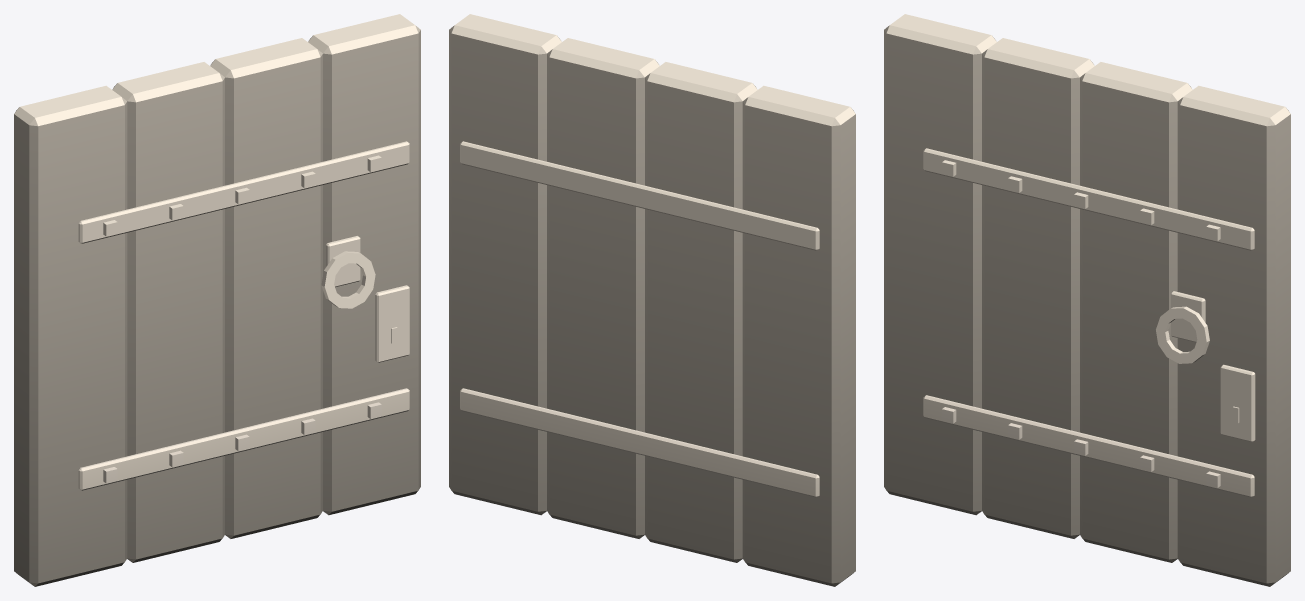
Rendered from SM_VKI_Leaf_Iron_Cut.fbx.
3 views of the same model, side by side, from view 1: azimuth 30°, elevation 25°; view 2: azimuth 150°, elevation 25°; view 3: azimuth 330°, elevation 25° (orthographic).
Visible parts, largest first — view 1: SM_VKI_Leaf_Iron_Cut.001; view 2: SM_VKI_Leaf_Iron_Cut.001; view 3: SM_VKI_Leaf_Iron_Cut.001.
Part boxes in pixels (x1=…): SM_VKI_Leaf_Iron_Cut.001: x1=14, y1=14, x2=420, y2=586; SM_VKI_Leaf_Iron_Cut.001: x1=449, y1=14, x2=855, y2=586; SM_VKI_Leaf_Iron_Cut.001: x1=884, y1=14, x2=1290, y2=586.
Size of the model in its own units: 0.83 by 0.95 by 0.1309.
